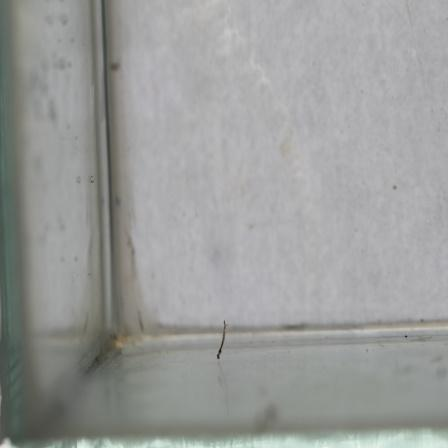Jentik-Nyamuk: (213, 319, 231, 363)
